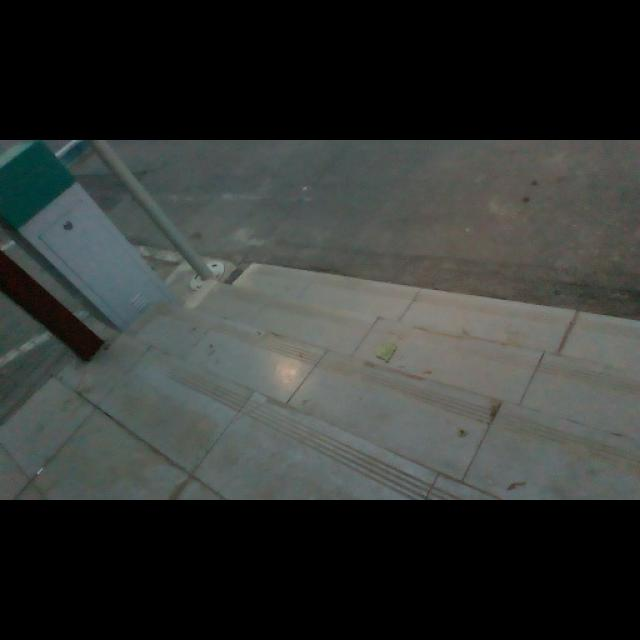stair: (142, 240, 636, 485)
